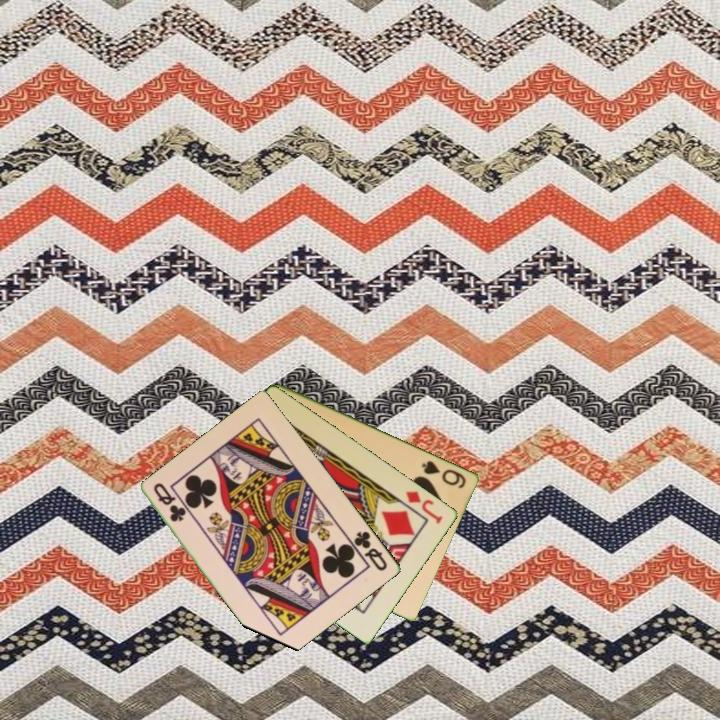6s: (418, 457, 469, 491)
Jd: (402, 487, 446, 526)
Qc: (351, 527, 391, 574), (150, 479, 189, 525)
